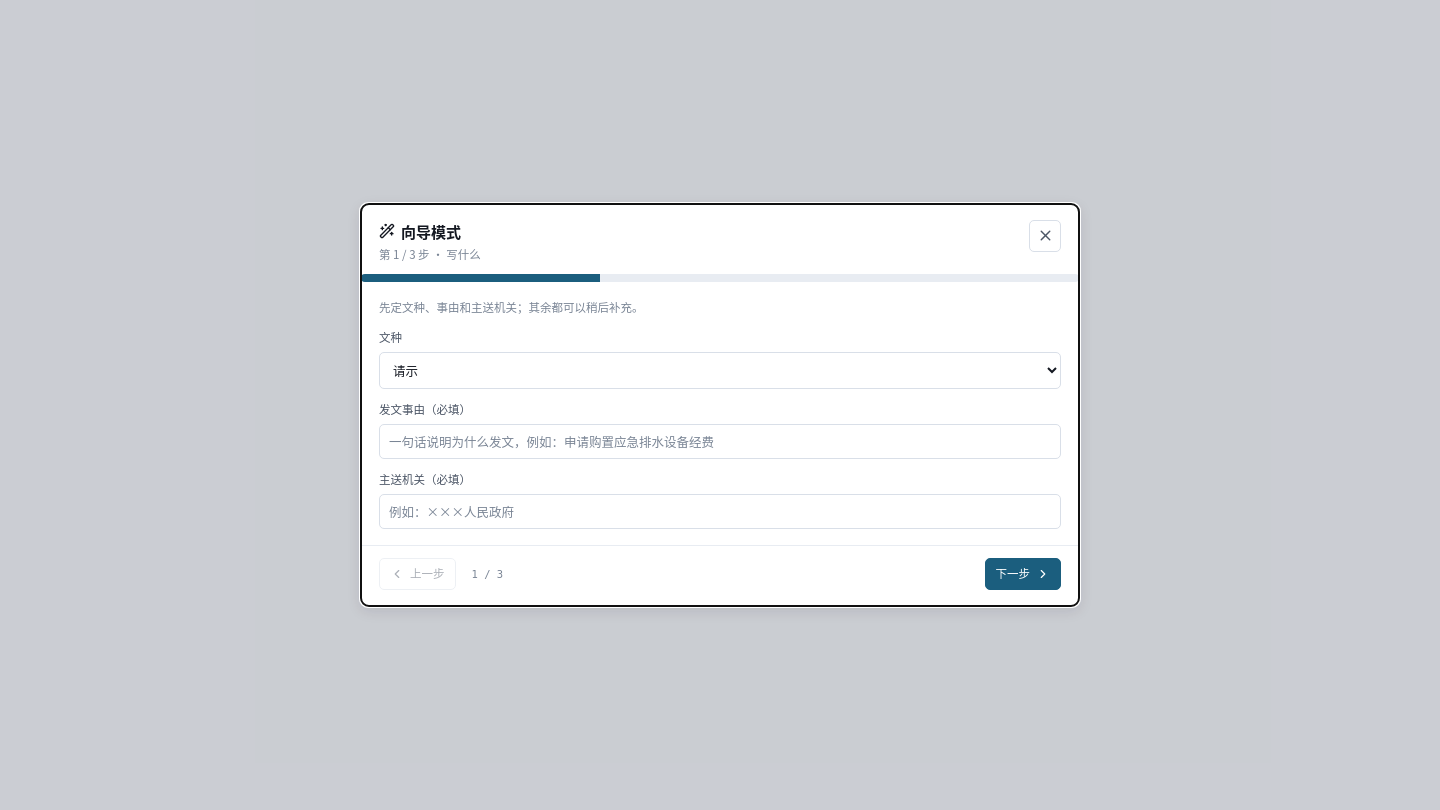
Test: DraftWizard › blocks the brief step until the required fields are filled
Click the button "下一步".
click(1023, 574)  # box 984,558 -> 1061,590
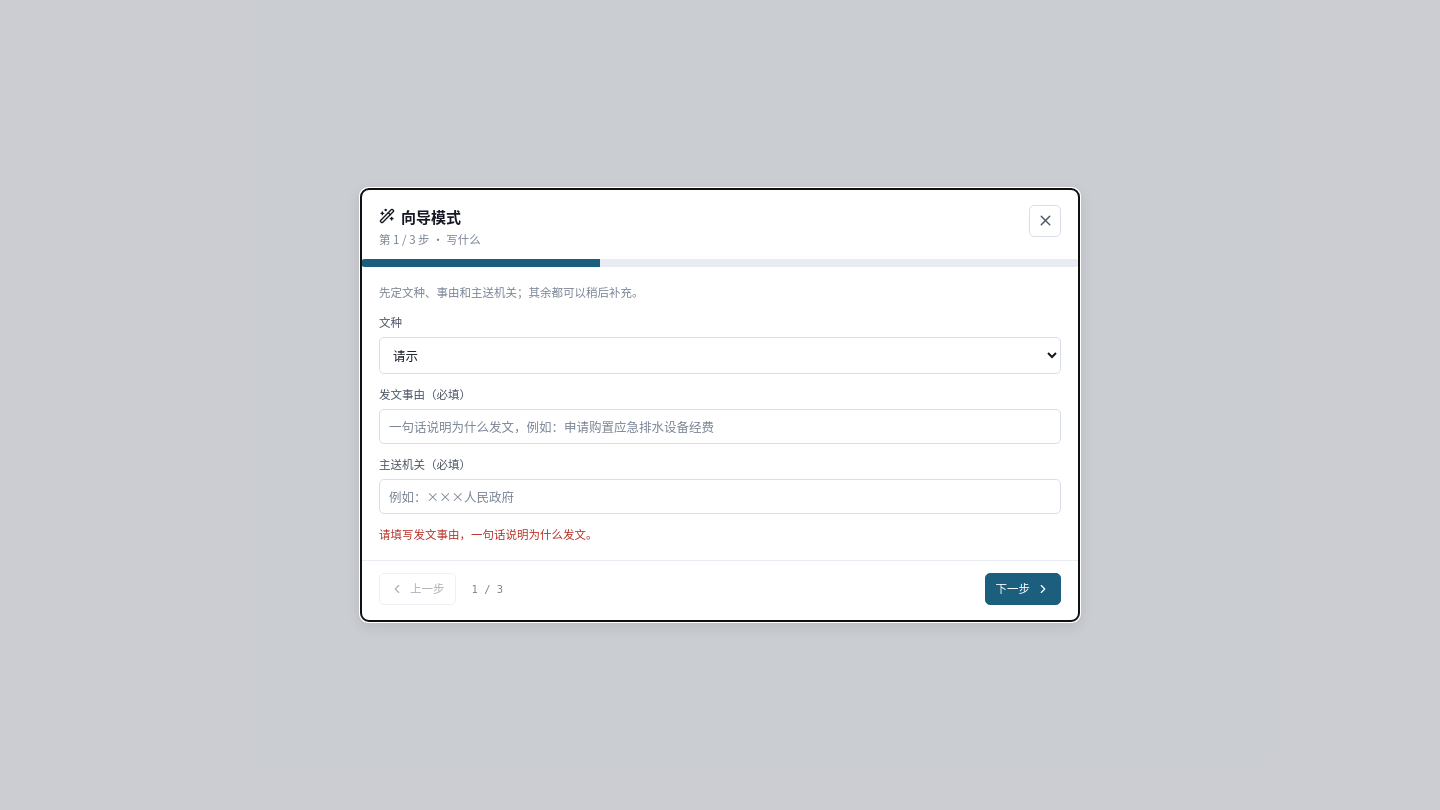
Result: the message shows "发文事由" at 379,526 -> 598,542
Type "开展汛前检查" into the field labelled "发文事由（必填）".
click(720, 427); type("开展汛前检查")  # box 379,409 -> 1061,444
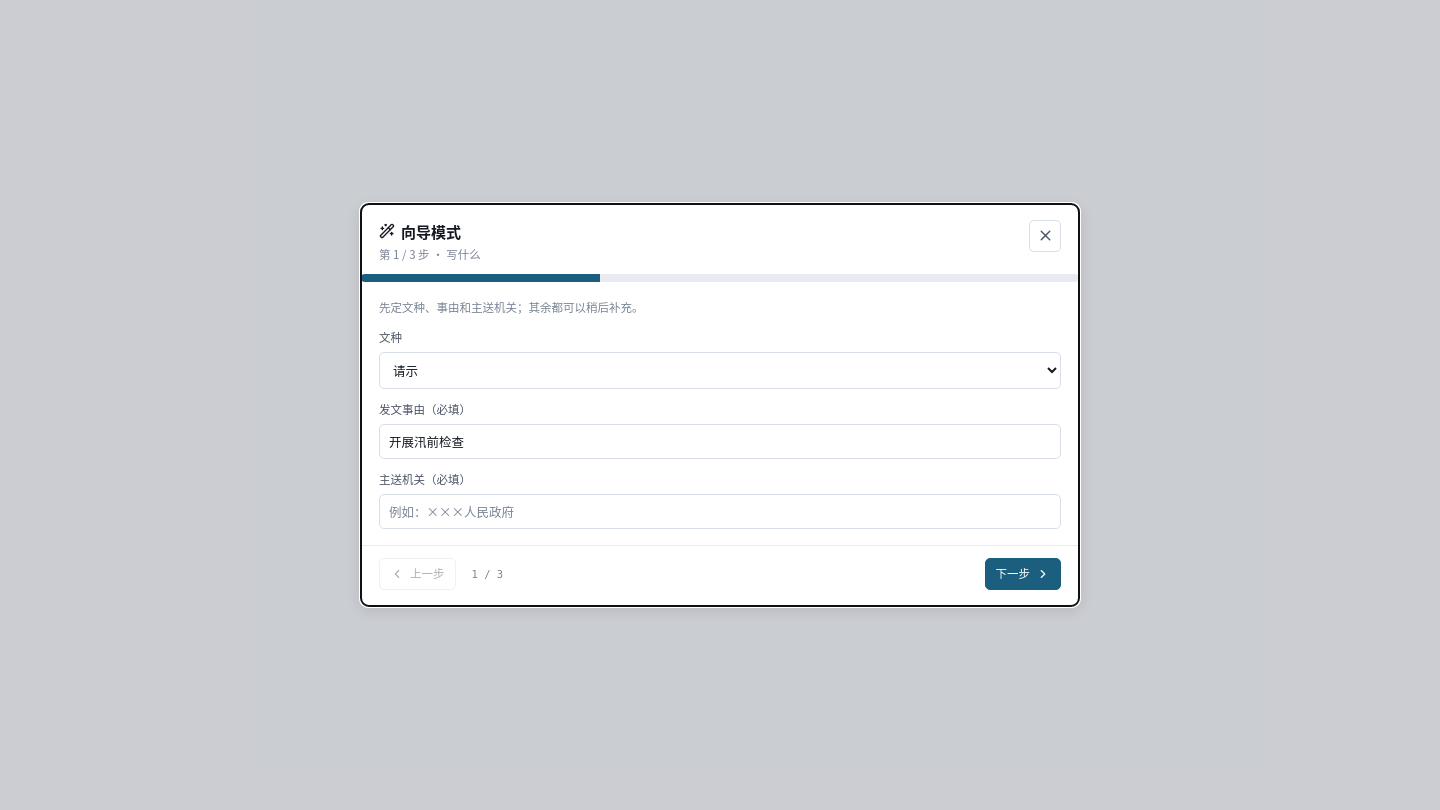
Click the button "下一步".
click(1023, 574)  # box 984,558 -> 1061,590
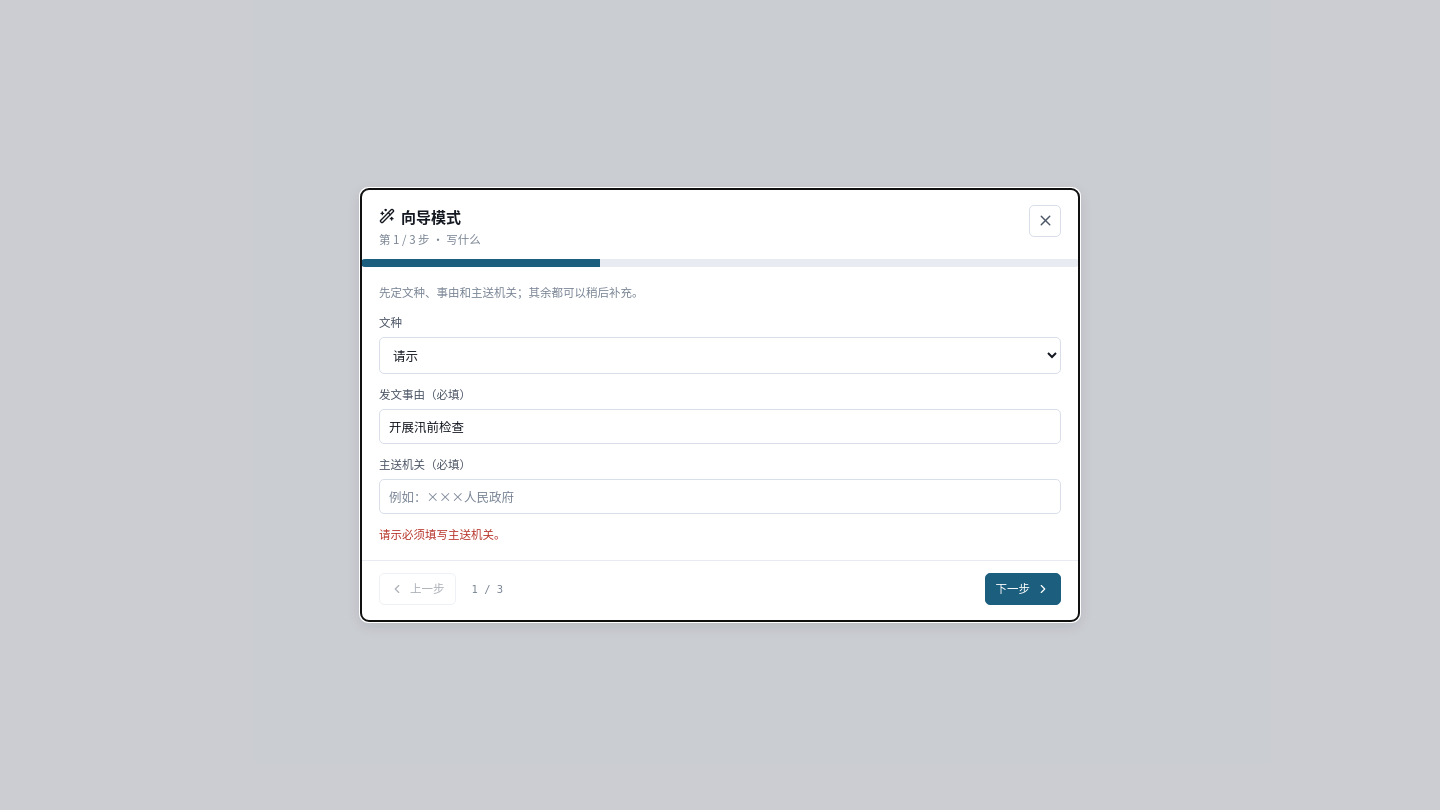
Result: the message shows "主送机关" at 379,526 -> 506,542
Type "×××单位" into the field labelled "主送机关（必填）".
click(720, 497); type("×××单位")  # box 379,479 -> 1061,514
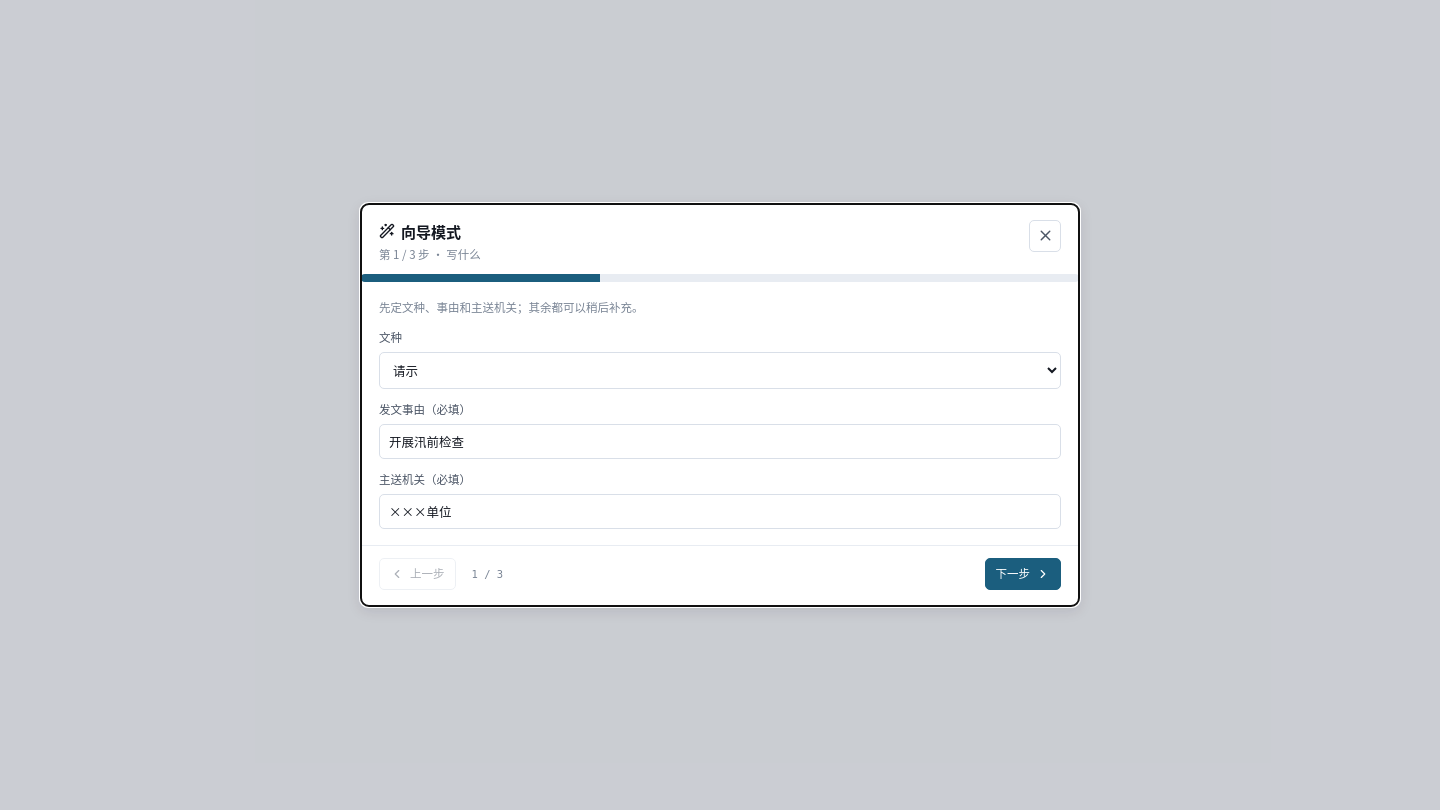
Click the button "下一步".
click(1023, 574)  # box 984,558 -> 1061,590
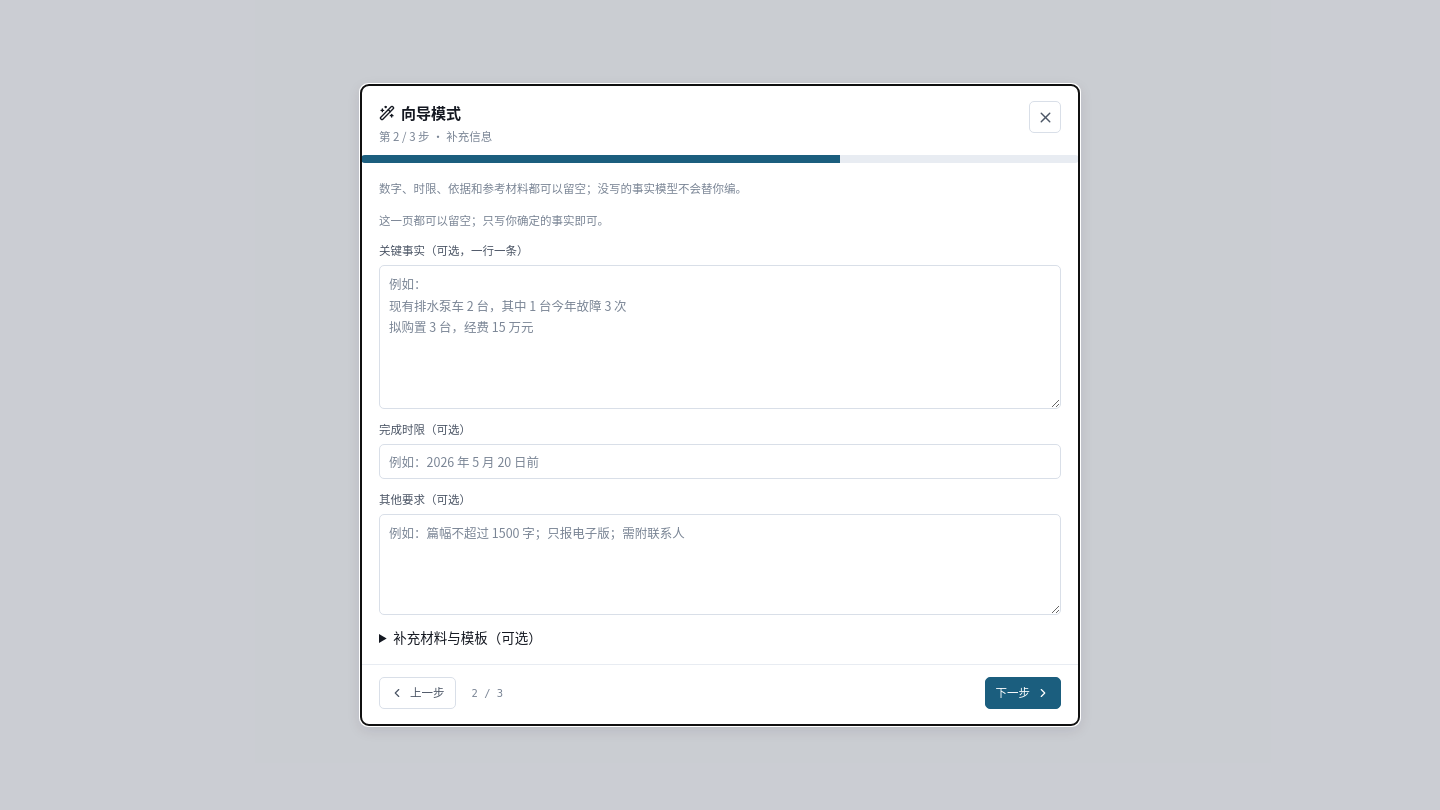
Result: the text box labelled "关键事实（可选，一行一条）" is shown at 379,265 -> 1061,409
